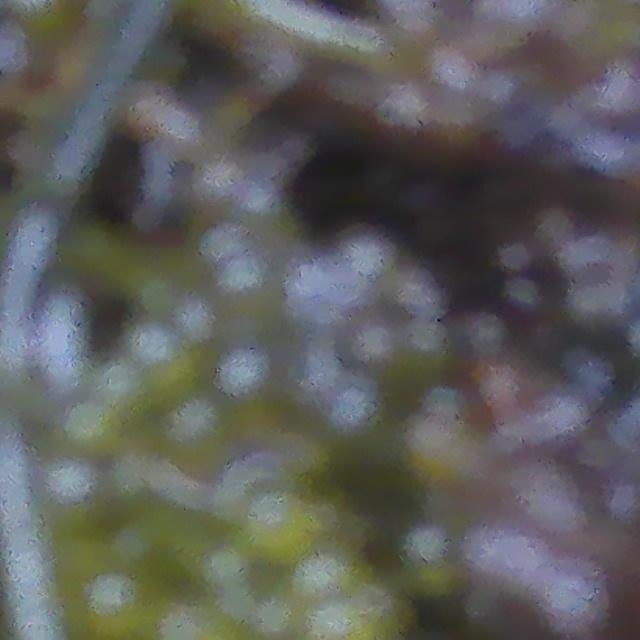SeaGrape: (88, 567, 149, 640), (65, 399, 123, 455), (305, 599, 372, 640)
